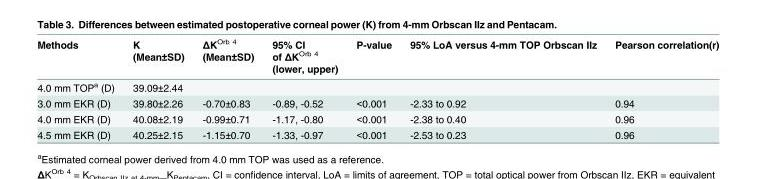table: (36, 37, 718, 140)
table column: (400, 37, 605, 140), (605, 37, 718, 140), (36, 37, 122, 140), (262, 37, 346, 140), (122, 37, 192, 140), (192, 37, 262, 140), (346, 37, 400, 140)
table column header: (36, 37, 718, 76)
table row: (36, 37, 718, 76), (36, 76, 718, 95), (36, 110, 718, 126), (36, 95, 718, 110), (36, 126, 718, 140)
